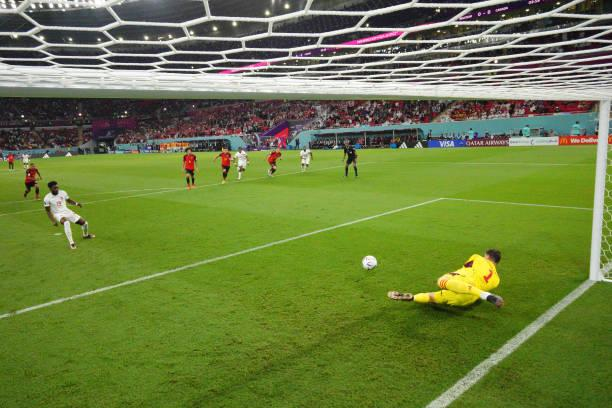Goalkeeper: (387, 249, 503, 308)
Player: (43, 180, 96, 249), (213, 147, 233, 183), (182, 147, 198, 189), (24, 163, 42, 199), (233, 147, 249, 180), (267, 147, 282, 176), (300, 146, 312, 172), (7, 153, 14, 174), (22, 152, 30, 168)
ball: (362, 256, 377, 270)
referee: (343, 140, 357, 178)
